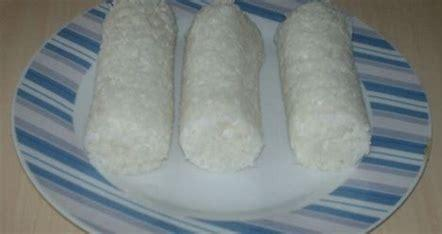Pittu: (85, 15, 388, 193)
